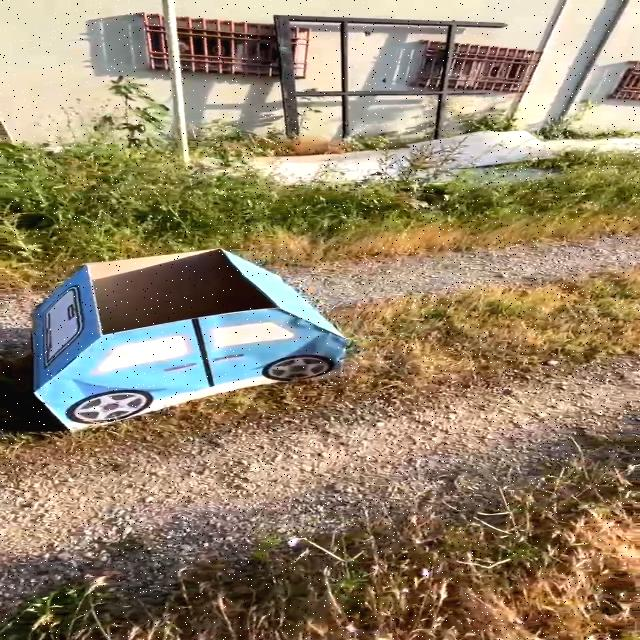blue_car: (0, 236, 393, 450)
